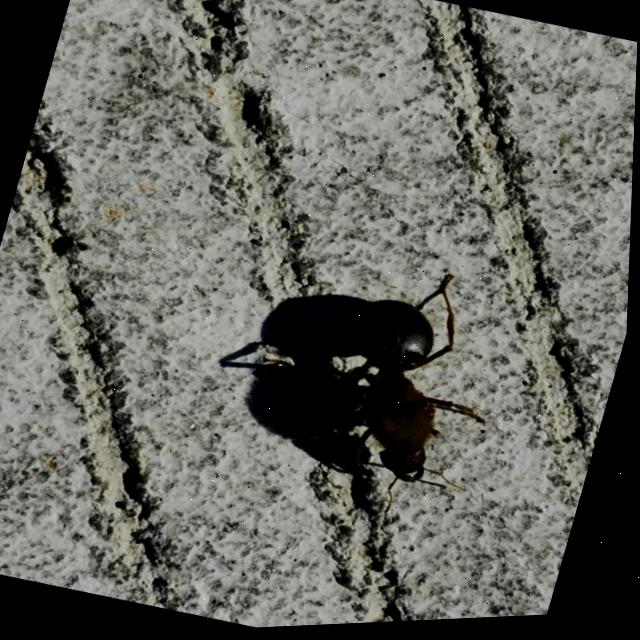Alive-Female-Dealate: (256, 242, 526, 539)
